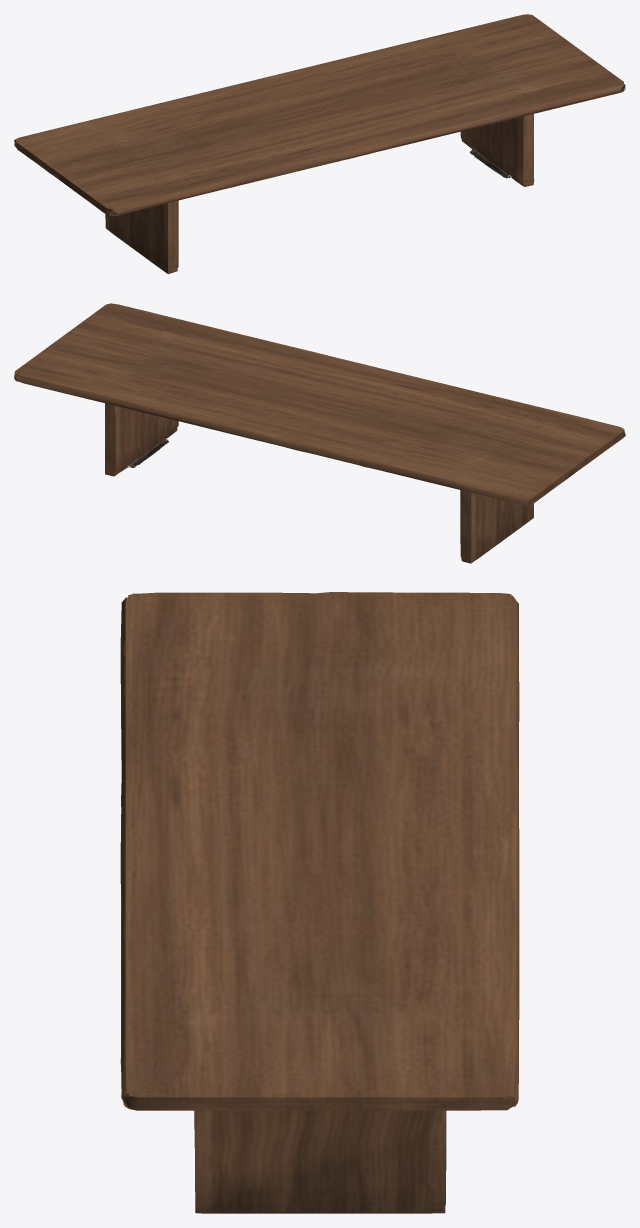
The model's file is conference-table.glb.
3 renders of one model, top to bottom at view 1: azimuth 30°, elevation 25°; view 2: azimuth 150°, elevation 25°; view 3: azimuth 270°, elevation 25°, orthographic. The views are drawn at different scales.
Parts seen in each view (by area): view 1: 01-conference-table; view 2: 01-conference-table; view 3: 01-conference-table.
Part boxes in pixels (x1,y1,x2,y2): 01-conference-table: (14,14,625,274); 01-conference-table: (14,303,625,563); 01-conference-table: (120,592,519,1213).
Bounding box in the file's own units: 4.2 × 0.7582 × 1.4.
1 material, 1 textured.
